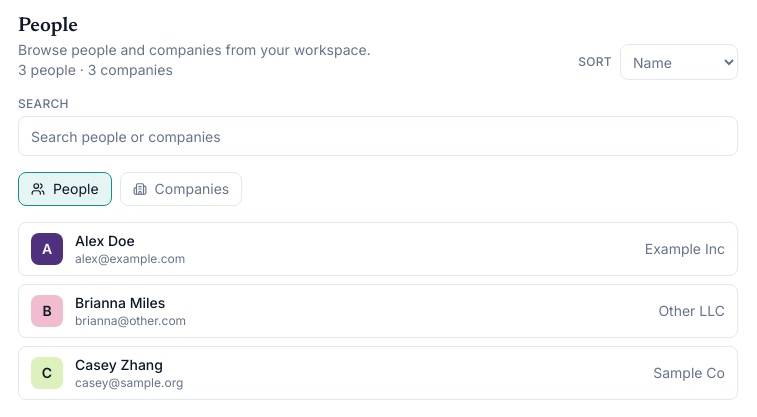
Test: PeopleScreen › filters people and companies client-side and shows a no-matches empty state
Expected: the text "Alex Doe" is shown, [75, 232, 135, 249]
Expected: the text "Brianna Miles" is shown, [75, 294, 165, 311]
Type "alex" into the field named "search people and companies" at (378, 136), box [18, 116, 738, 156]
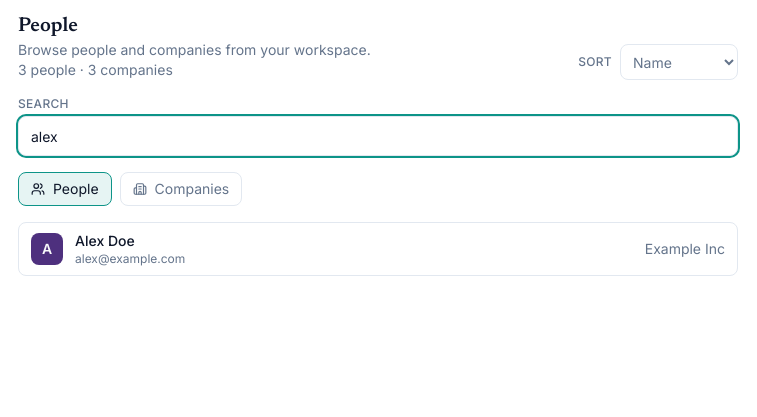
Expected: the text "Alex Doe" is shown, [75, 232, 135, 249]
Expected: the button "Brianna Miles" is gone
Expected: the button "Casey Zhang" is gone
Clear the field named "search people and companies" at (378, 136), box [18, 116, 738, 156]
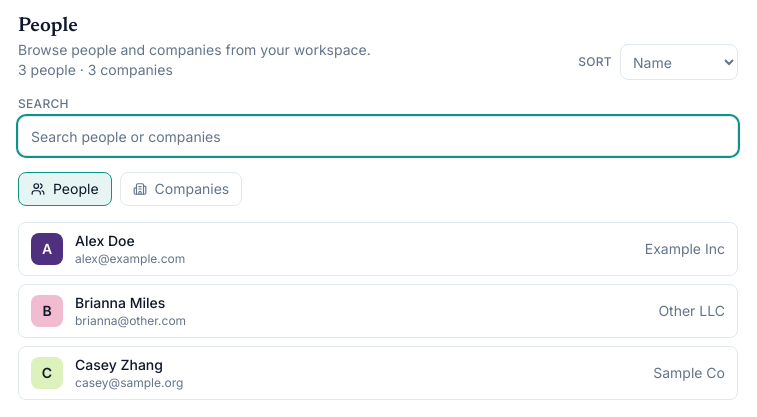
Expected: the text "Alex Doe" is shown, [75, 232, 135, 249]
Expected: the text "Brianna Miles" is shown, [75, 294, 165, 311]
Expected: the text "Casey Zhang" is shown, [75, 356, 163, 373]
Click the button "Companies" at (181, 189), box [120, 172, 242, 206]
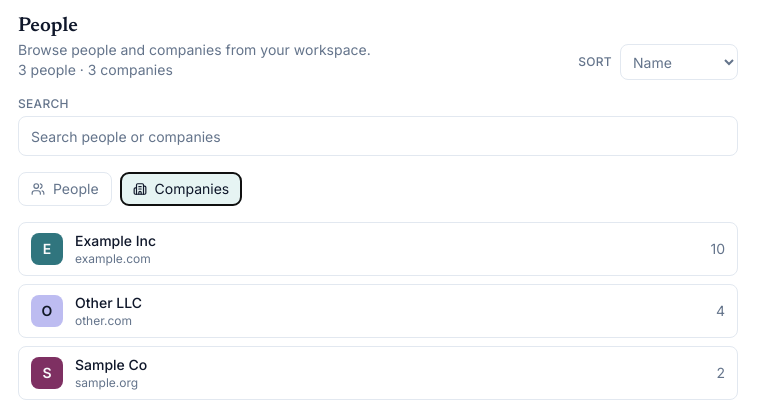
Type "other" into the field named "search people and companies" at (378, 136), box [18, 116, 738, 156]
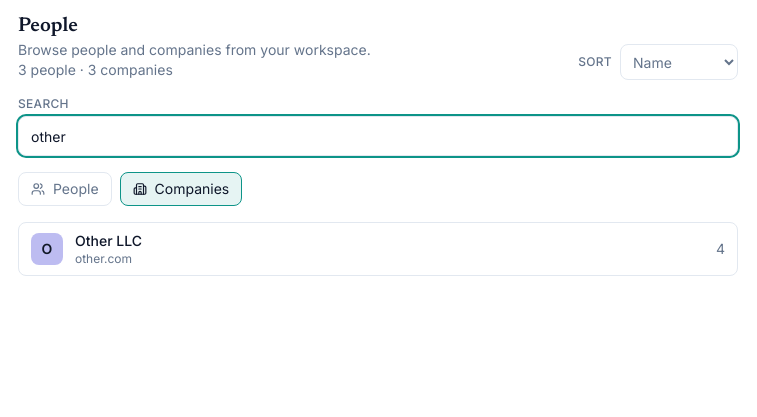
Expected: the text "Other LLC" is shown, [75, 231, 142, 251]
Expected: the button "Example Inc" is gone
Expected: the button "Sample Co" is gone
Clear the field named "search people and companies" at (378, 136), box [18, 116, 738, 156]
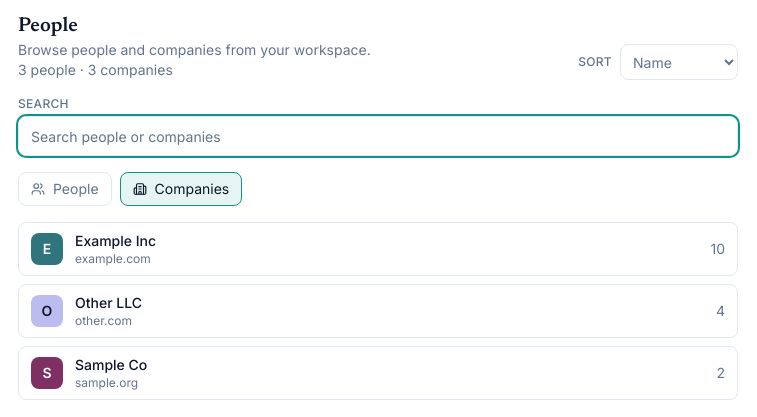
Expected: the text "Other LLC" is shown, [75, 293, 142, 313]
Expected: the text "Example Inc" is shown, [75, 231, 156, 251]
Expected: the text "Sample Co" is shown, [75, 355, 147, 375]
Type "zzzz" into the field named "search people and companies" at (378, 136), box [18, 116, 738, 156]
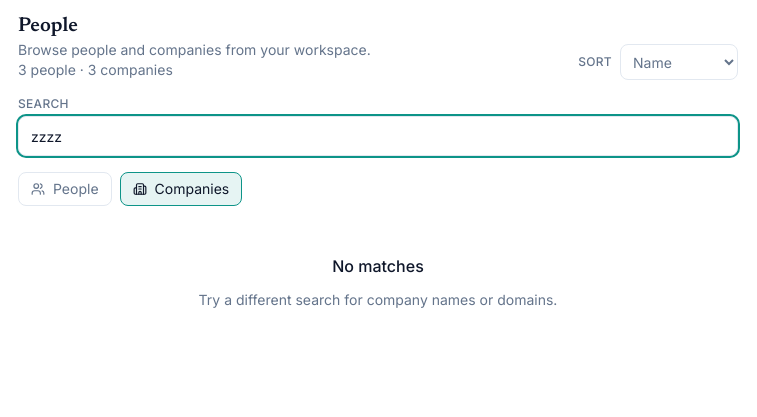
Expected: the text "No matches" is shown, [332, 254, 424, 278]
Expected: the text "Try a different search for company names or domains." is shown, [199, 290, 557, 310]
